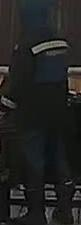vest: (11, 34, 74, 134)
